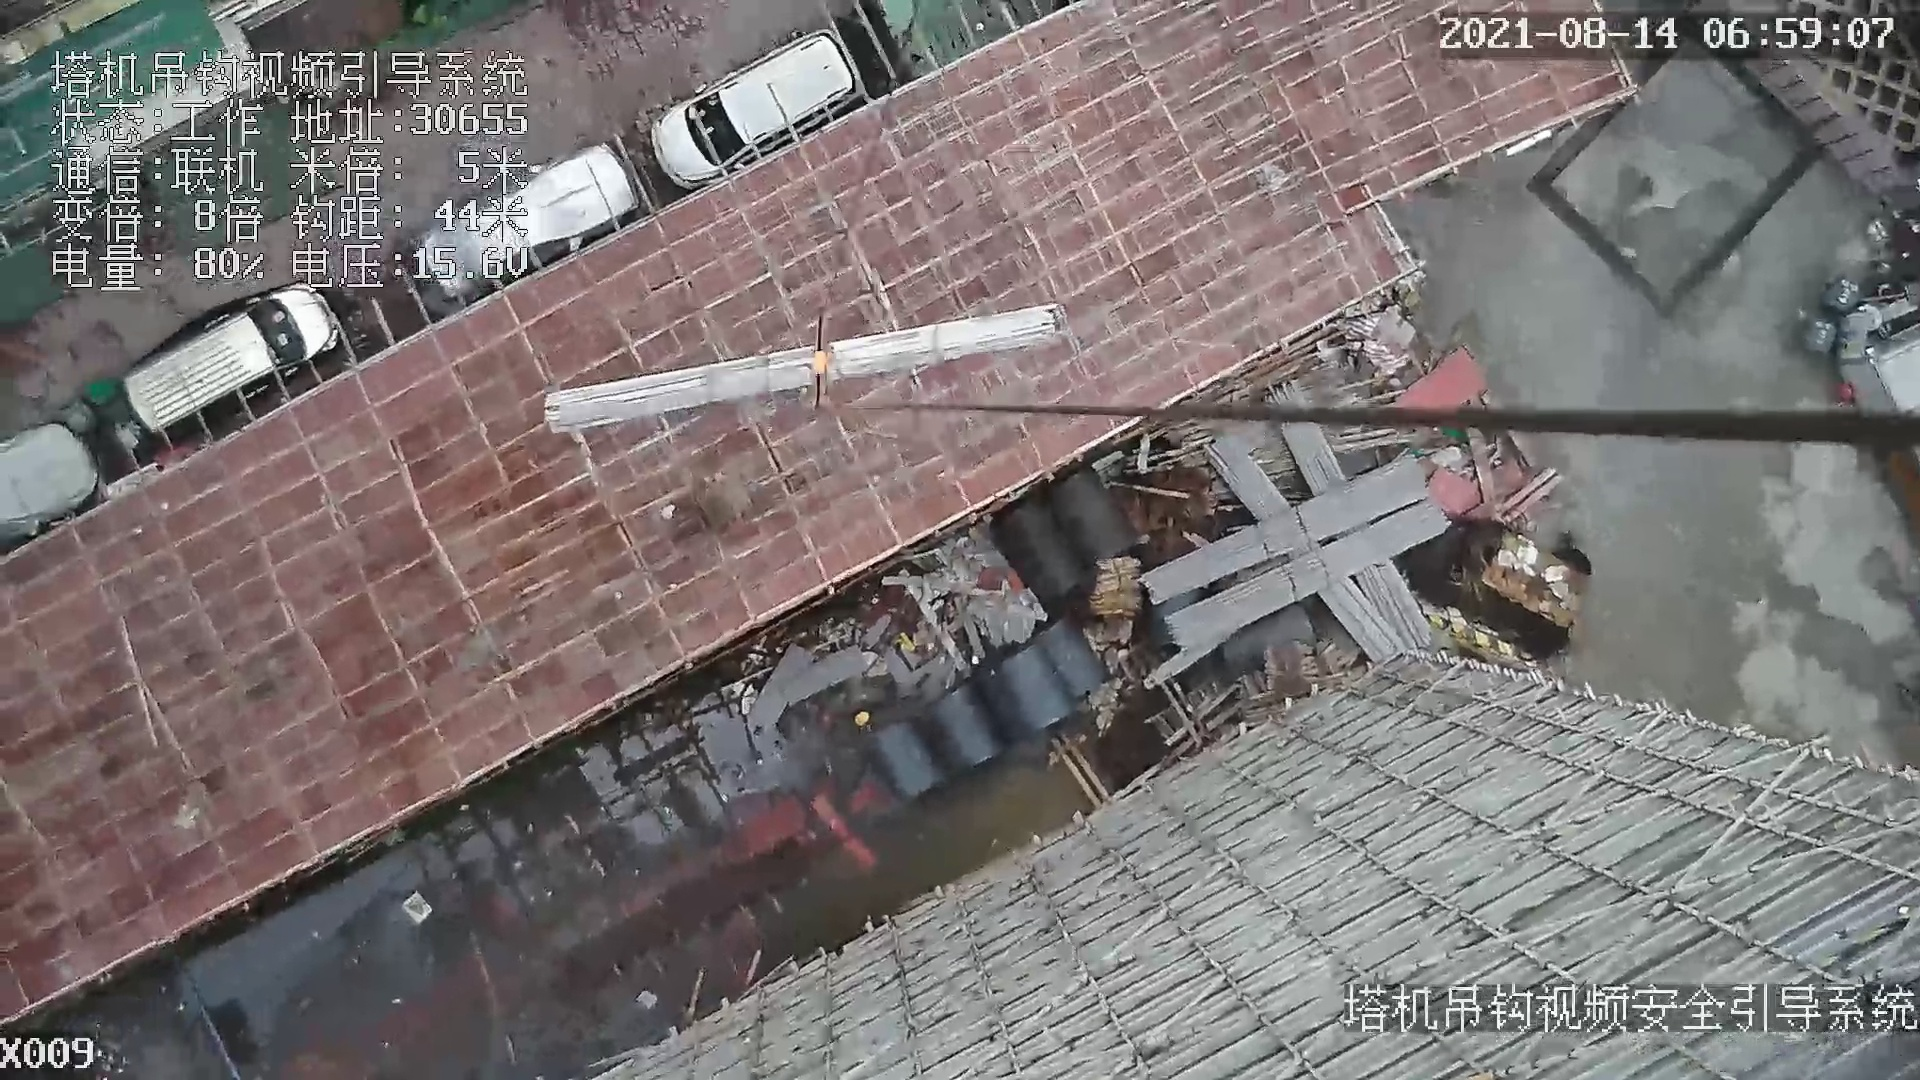hook: (799, 310, 840, 415)
rebar: (539, 301, 1065, 431), (1197, 430, 1402, 669), (1269, 381, 1435, 665), (1163, 498, 1455, 654), (1139, 458, 1431, 601)
wood: (1092, 556, 1142, 618)
